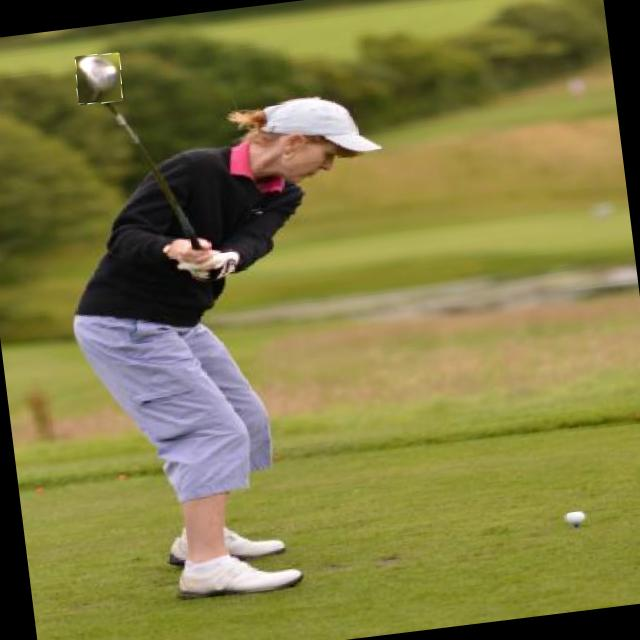club head: (74, 52, 124, 104)
